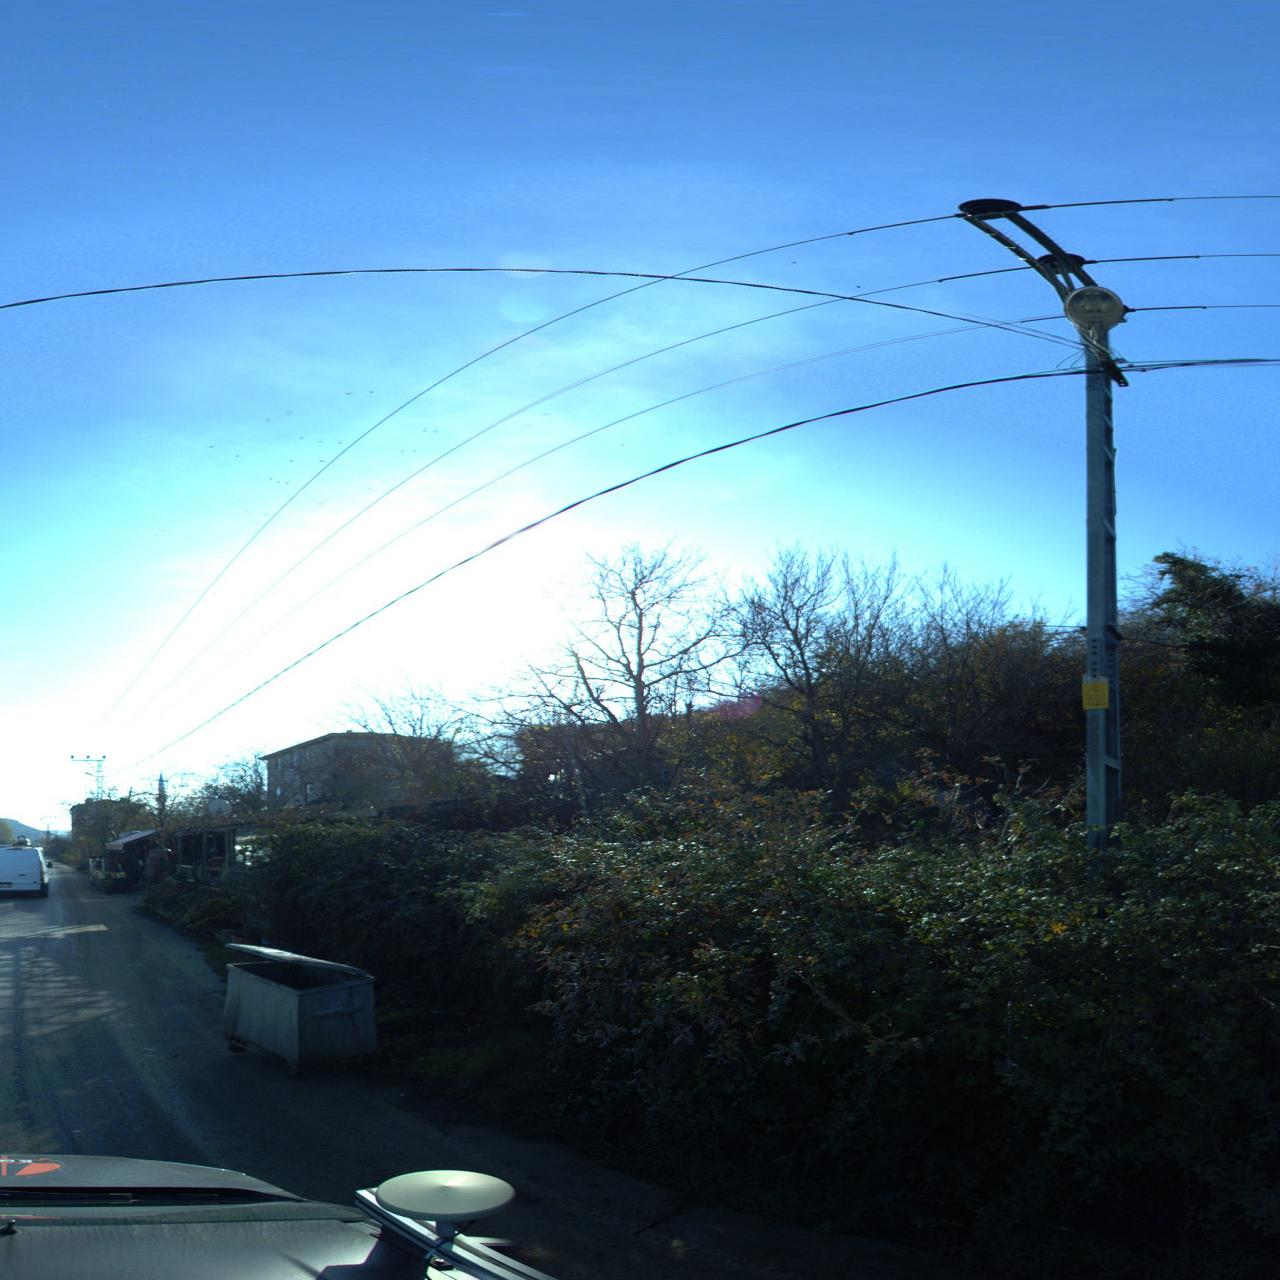Utility Pole Information Plate: (1071, 670, 1111, 713)
